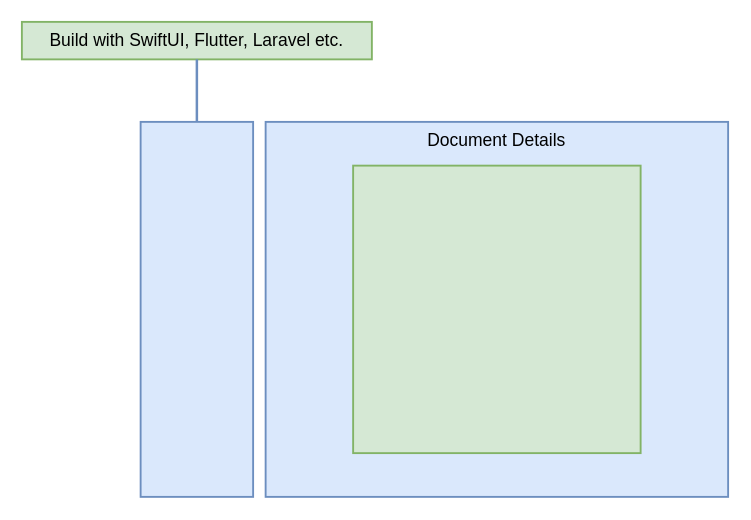
This 751x520 diagram has some shape labels left out. Here are the shapes that lost their labels. From the top down, the centre of each, then its label:
(x=196, y=308): Document List
(x=496, y=309): JuiceEditor
